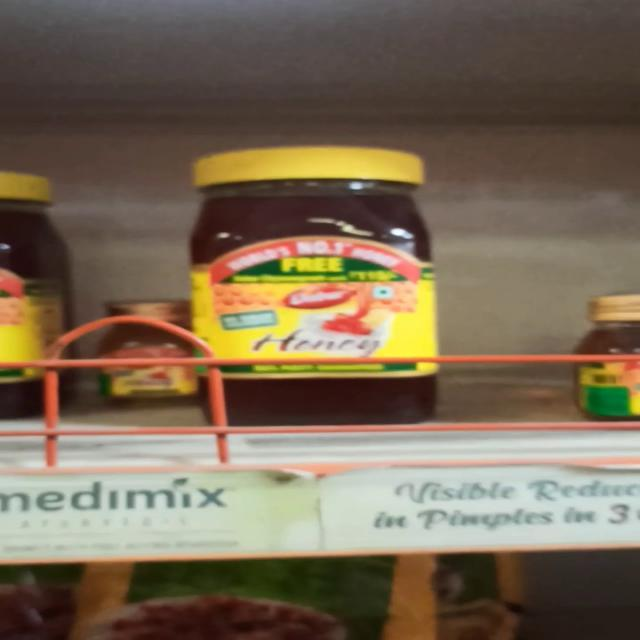Dabur Honey: (184, 137, 450, 426)
